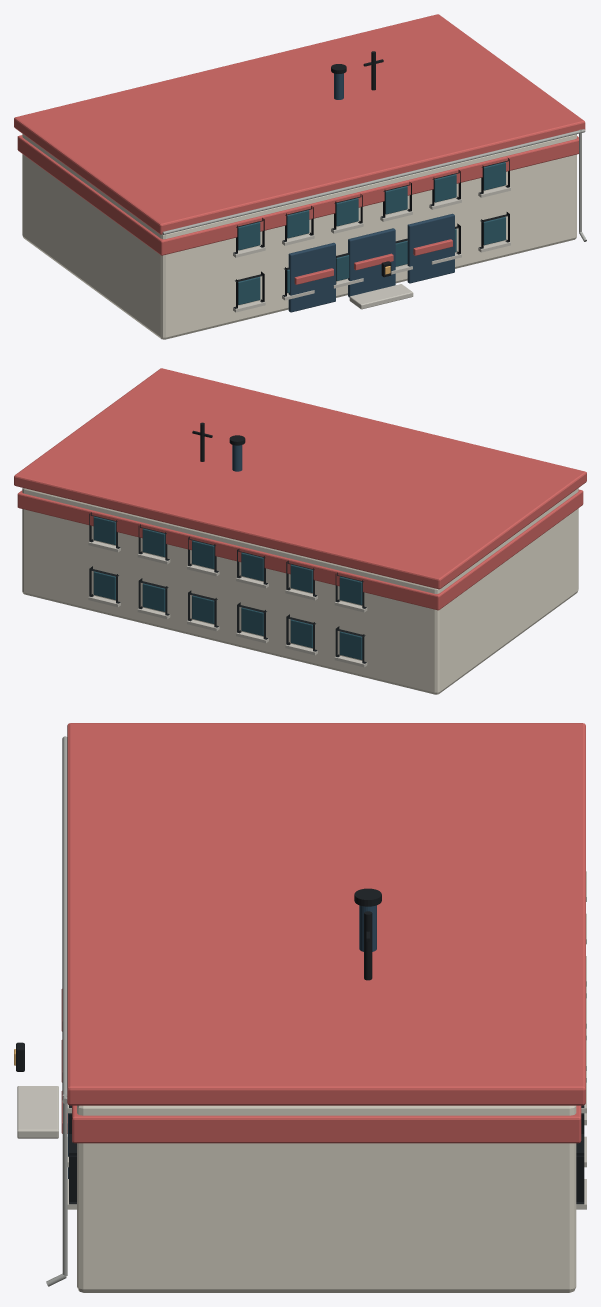
File: CIV_FIRE_3x2_002.glb
3 views of the same model, one above another, from view 1: azimuth 30°, elevation 25°; view 2: azimuth 150°, elevation 25°; view 3: azimuth 270°, elevation 25° (orthographic). The views are drawn at different scales.
Parts seen in each view (by area): view 1: CIV_FIRE_3x2_002_Visual; view 2: CIV_FIRE_3x2_002_Visual; view 3: CIV_FIRE_3x2_002_Visual.
Part boxes in pixels (<box>): CIV_FIRE_3x2_002_Visual: <box>14,14,586,339</box>; CIV_FIRE_3x2_002_Visual: <box>14,368,586,694</box>; CIV_FIRE_3x2_002_Visual: <box>14,723,586,1292</box>.
Size of what is drawn, in the model's own units: 5.37 by 1.9 by 3.56.
